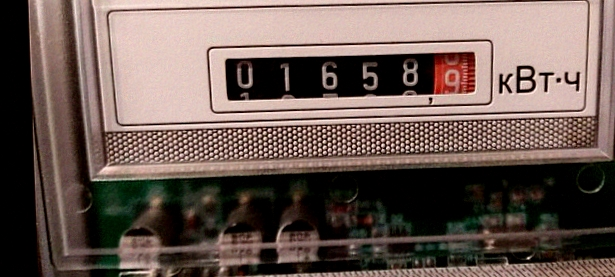0: (234, 58, 255, 89)
1: (277, 60, 295, 93)
5: (359, 59, 381, 91)
6: (319, 57, 340, 91)
8: (400, 54, 421, 87)
9: (440, 67, 462, 96)
screen: (197, 28, 500, 121)
